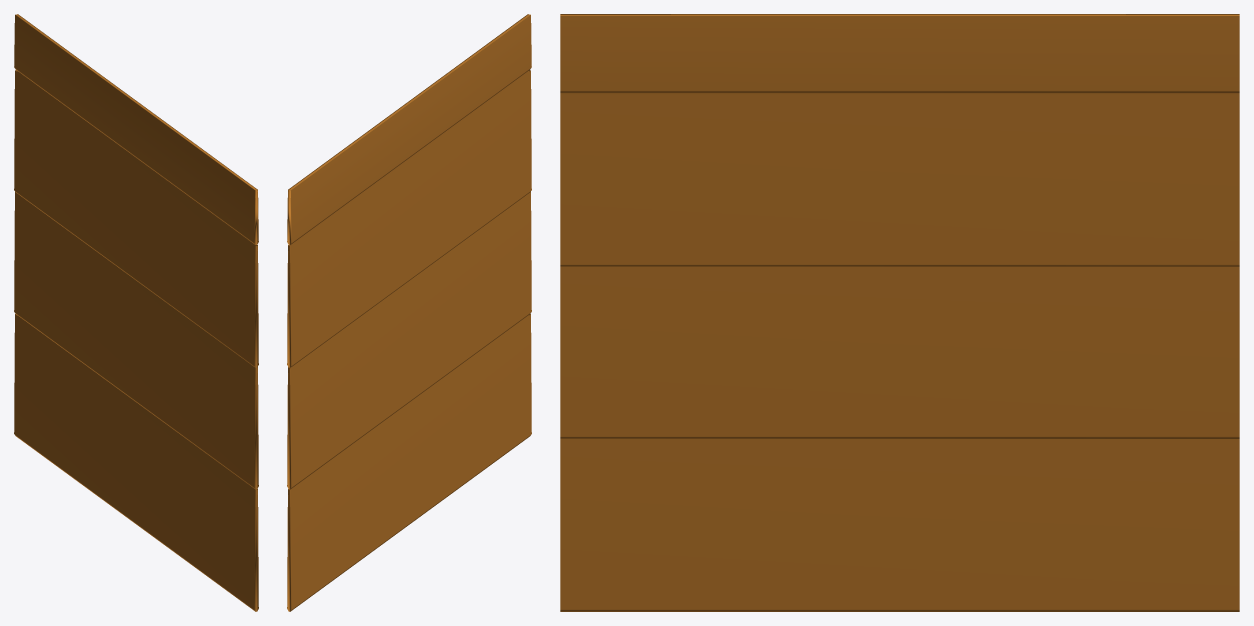
Rendered from Prop_sci_curtain1.FBX.
The picture shows the model from 3 angles, left to right: view 1: azimuth 30°, elevation 25°; view 2: azimuth 150°, elevation 25°; view 3: azimuth 270°, elevation 25°; orthographic projection. The views are drawn at different scales.
Parts seen in each view (by area): view 1: Prop_sci_curt1; view 2: Prop_sci_curt1; view 3: Prop_sci_curt1.
Boxes of the visible parts, x1,y1,x2,y2 form: Prop_sci_curt1: (14, 14, 258, 611); Prop_sci_curt1: (287, 14, 531, 611); Prop_sci_curt1: (560, 14, 1239, 611).
Size of the model in its own units: 0.8594 by 76.28 by 78.74.
